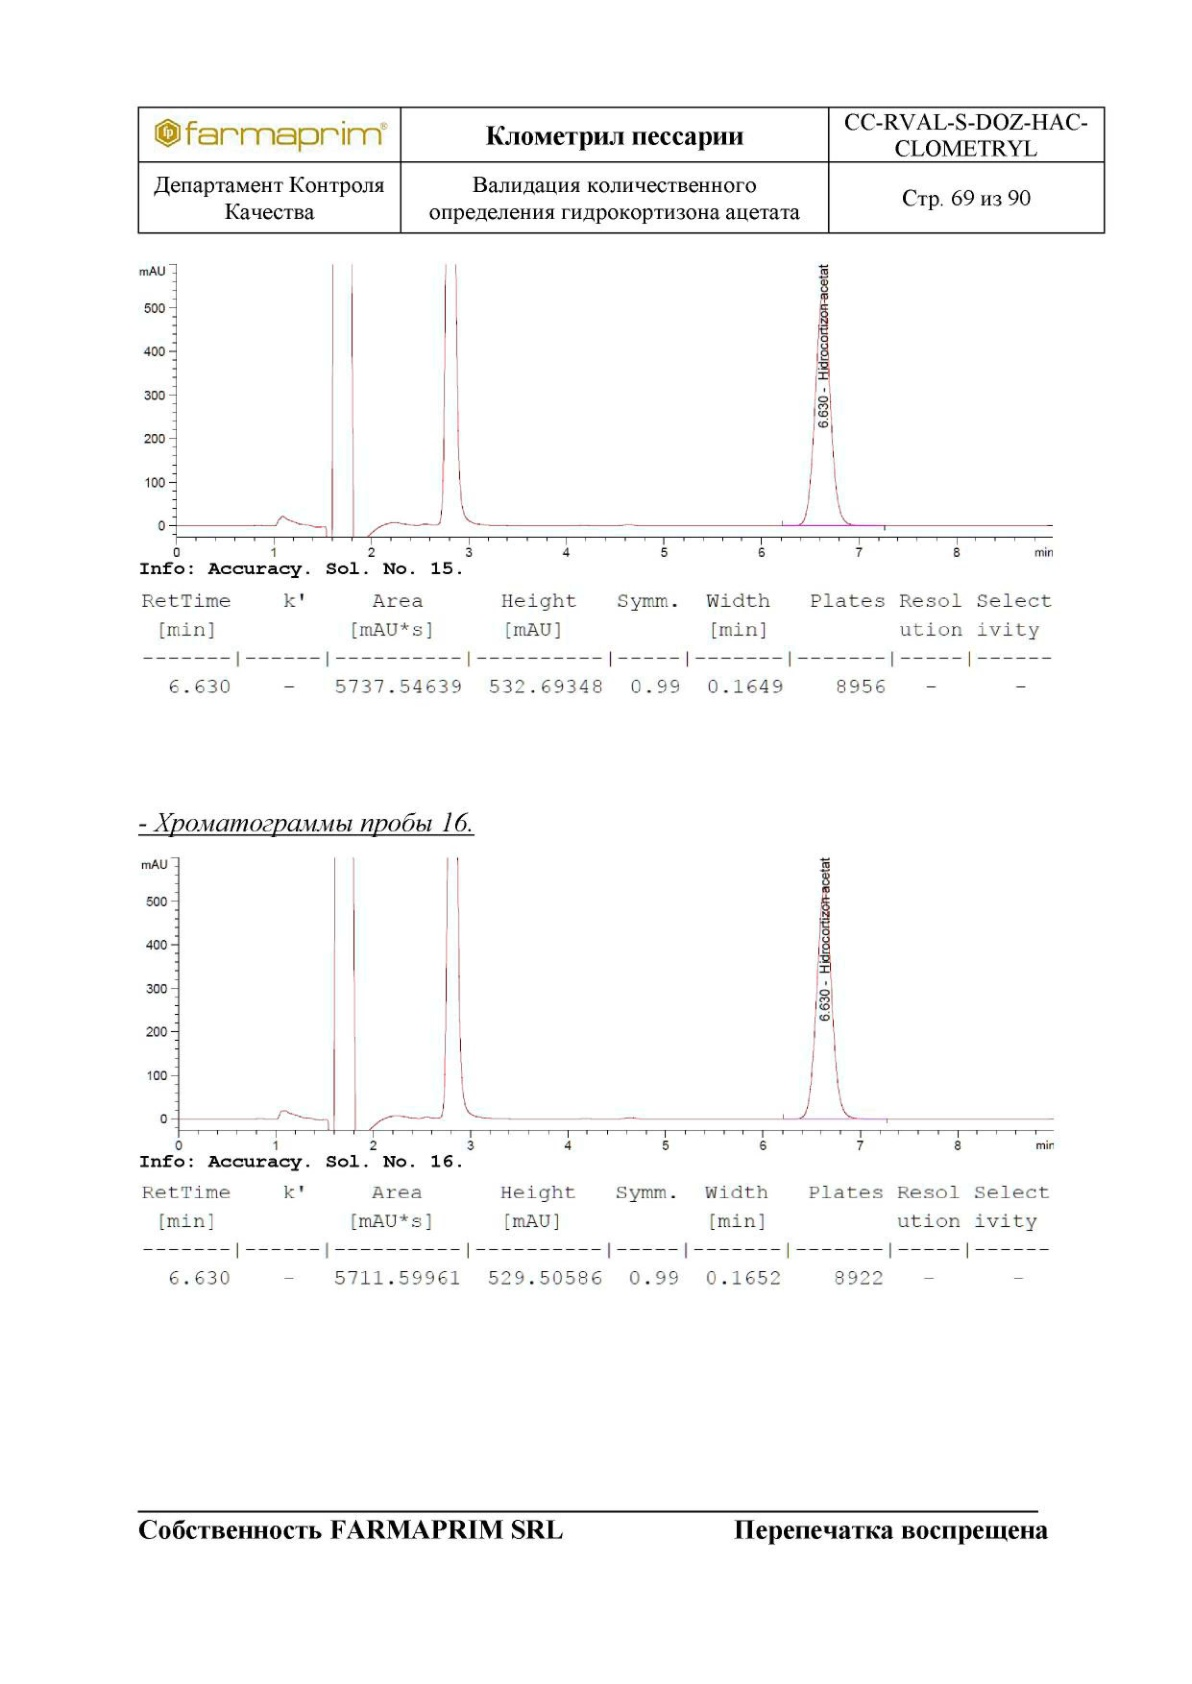full_lined: (135, 106, 1106, 233)
partial_lined: (137, 591, 1058, 710), (138, 1181, 1055, 1297)
